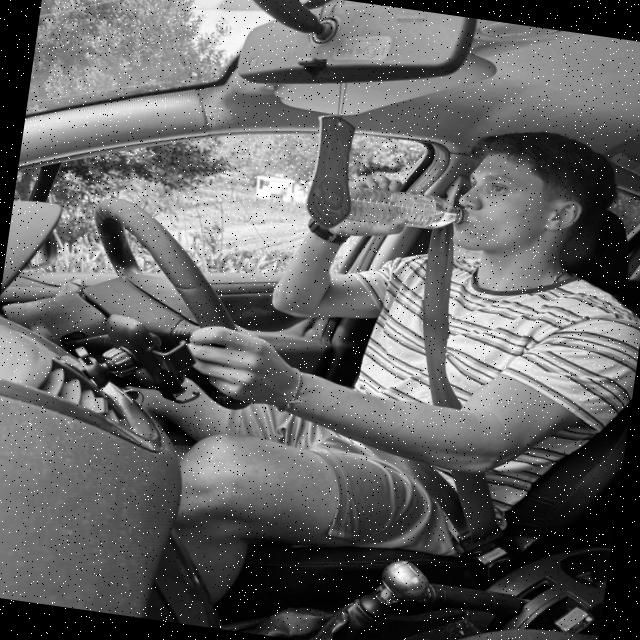Drinking: (340, 180, 475, 241)
Seatbelt: (378, 219, 554, 568)
